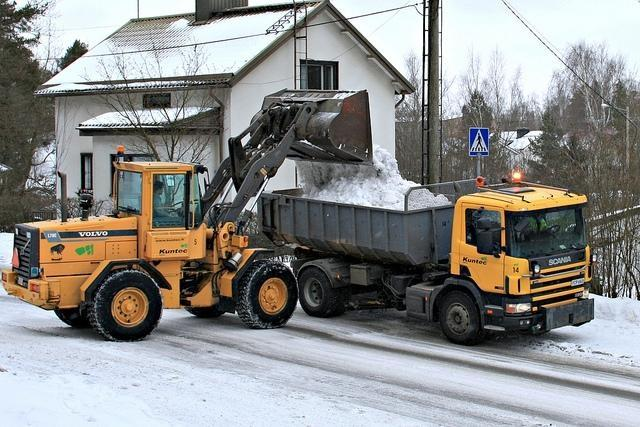truck: (5, 90, 373, 344), (256, 176, 594, 342)
